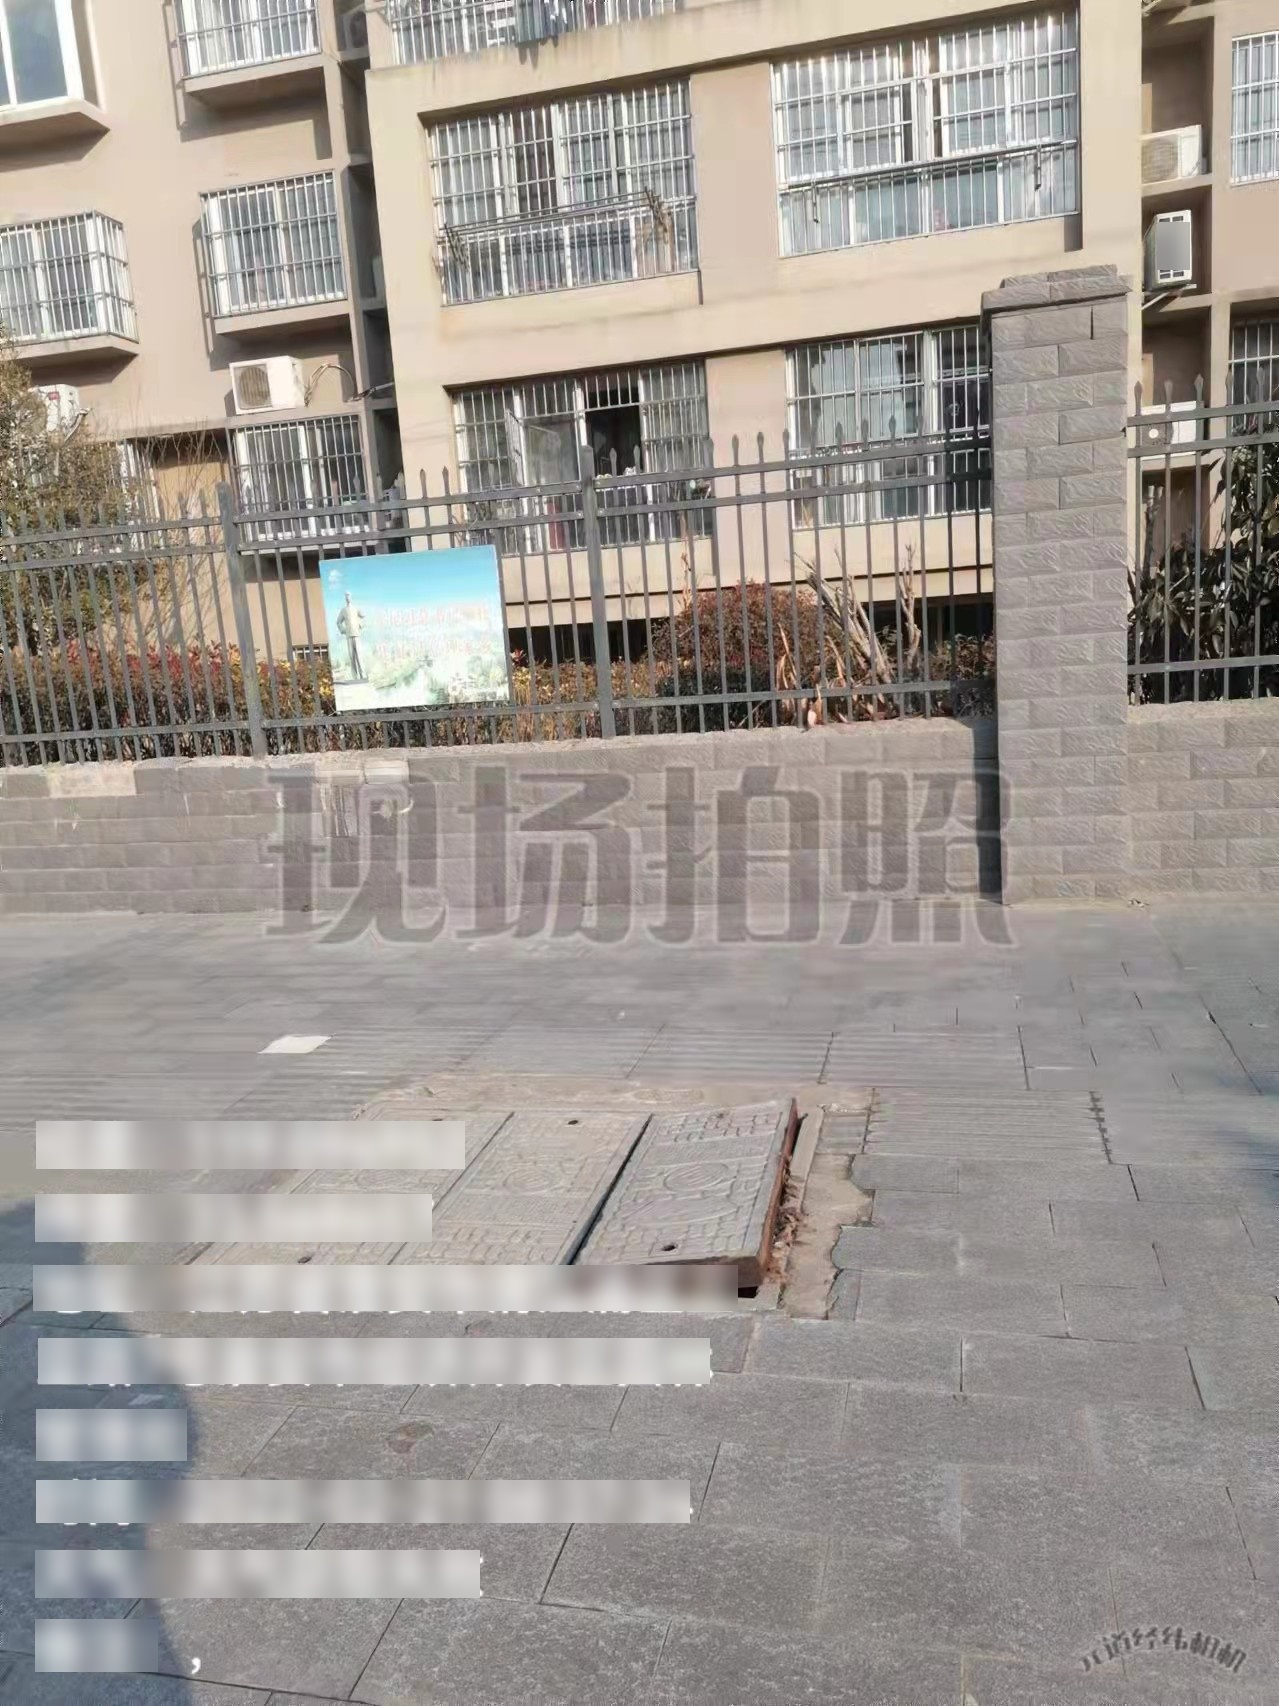uncovered: (173, 1087, 824, 1315)
